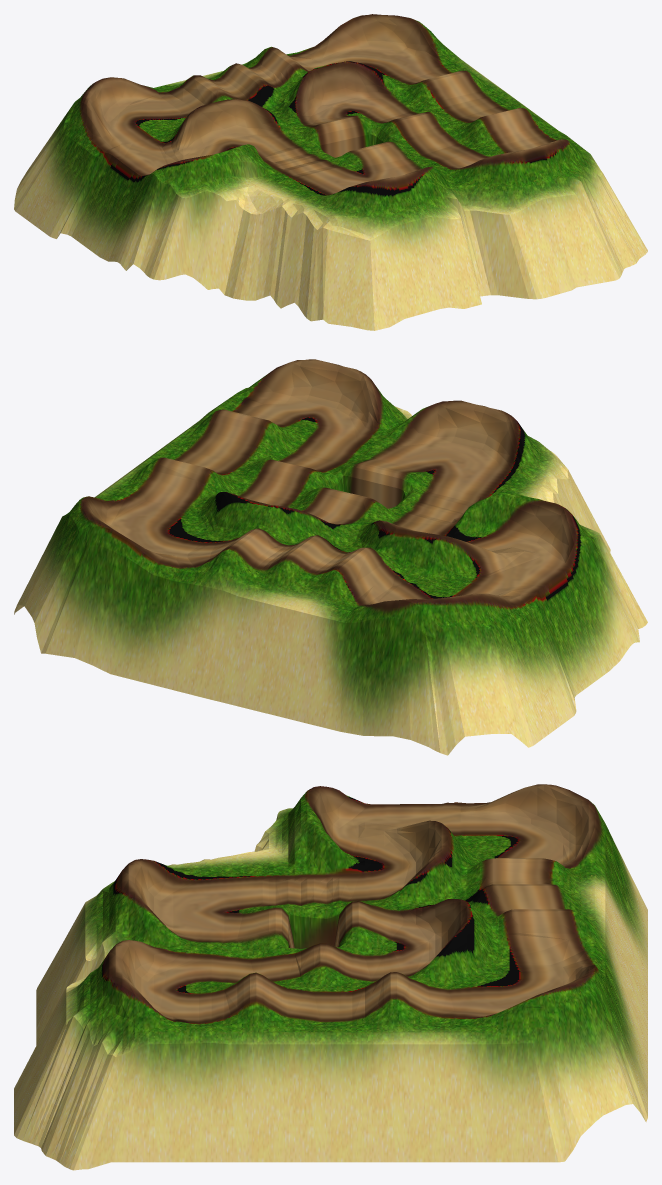
Rendered from track_overlay.fbx.
3 views of the same model, one above another, from view 1: azimuth 30°, elevation 25°; view 2: azimuth 150°, elevation 25°; view 3: azimuth 270°, elevation 25° (orthographic). The views are drawn at different scales.
Visible parts, largest first — view 1: Overlay; view 2: Overlay; view 3: Overlay.
Boxes of the visible parts, x1,y1,x2,y2 form: Overlay: (14, 14, 647, 330); Overlay: (14, 359, 647, 755); Overlay: (14, 784, 647, 1170).
Bounding box in the file's own units: 104 × 26.02 × 99.24.
1 material, 1 textured.
